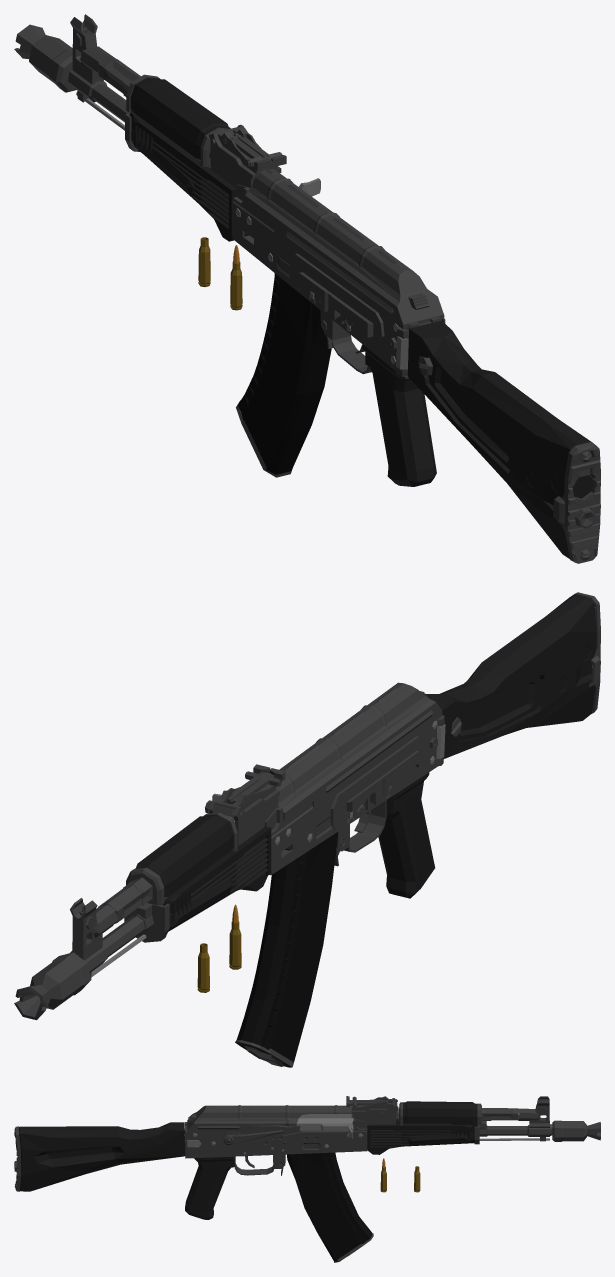
The picture shows the model from 3 angles, top to bottom: view 1: azimuth 30°, elevation 25°; view 2: azimuth 150°, elevation 25°; view 3: azimuth 270°, elevation 25°; orthographic projection. The views are drawn at different scales.
Visible parts, largest first — view 1: folding_stock_19, receiver_0, magazine_13, dust_cover_20, grip_25, handguard_lower_17, handguard_upper_16, Circle_3, gas_tube_1, rear_sight_12; view 2: folding_stock_19, receiver_0, magazine_13, dust_cover_20, grip_25, handguard_lower_17, handguard_upper_16, Circle_3, gas_tube_1, lower_handguard_cover_15, rear_sight_12; view 3: folding_stock_19, receiver_0, magazine_13, dust_cover_20, handguard_lower_17, grip_25, handguard_upper_16, safety_selector_7, bolt_carrier_22, Circle_3, gas_tube_1, rear_sight_12.
Boxes of the visible parts, x1,y1,x2,y2 form: folding_stock_19: (396, 320, 600, 563); receiver_0: (68, 14, 445, 379); magazine_13: (236, 273, 331, 477); dust_cover_20: (244, 168, 444, 329); grip_25: (362, 344, 436, 486); handguard_lower_17: (130, 112, 248, 241); handguard_upper_16: (130, 77, 230, 159); Circle_3: (14, 24, 76, 92); gas_tube_1: (98, 56, 229, 166); rear_sight_12: (224, 133, 286, 170); folding_stock_19: (425, 592, 600, 758); receiver_0: (70, 720, 437, 980); magazine_13: (235, 832, 338, 1067); dust_cover_20: (267, 682, 442, 820); grip_25: (378, 772, 435, 898); handguard_lower_17: (162, 826, 271, 931); handguard_upper_16: (134, 814, 233, 897); Circle_3: (14, 952, 90, 1020); gas_tube_1: (98, 812, 237, 923); lower_handguard_cover_15: (124, 902, 169, 942); rear_sight_12: (226, 764, 285, 804); folding_stock_19: (14, 1122, 185, 1191); receiver_0: (185, 1096, 552, 1175); magazine_13: (286, 1152, 373, 1262); dust_cover_20: (187, 1105, 352, 1133); handguard_lower_17: (367, 1121, 477, 1154); grip_25: (185, 1156, 234, 1219); handguard_upper_16: (403, 1101, 477, 1123); safety_selector_7: (221, 1125, 300, 1146); bolt_carrier_22: (296, 1109, 398, 1138); Circle_3: (552, 1120, 600, 1141); gas_tube_1: (396, 1102, 518, 1125); rear_sight_12: (346, 1096, 387, 1108).
Size of the model in its own units: 0.0746 by 0.2702 by 0.8802.
